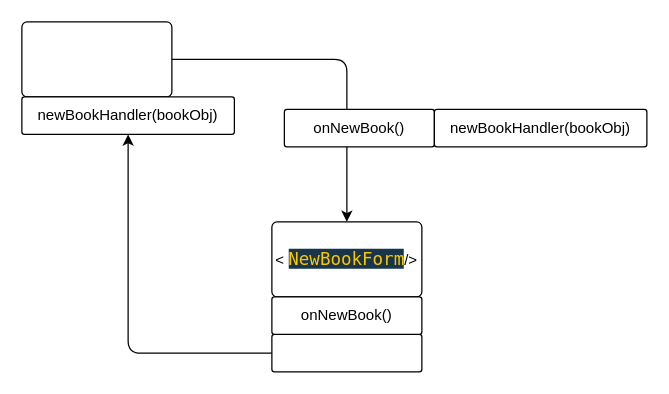
Image size: 669x394. Some labels were removed from this diagram. Each missing label, with the centre of its shape:
< NewBookPage />: point 96,59
book: point 346,352
